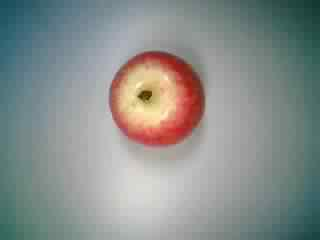apple: (106, 50, 210, 154)
